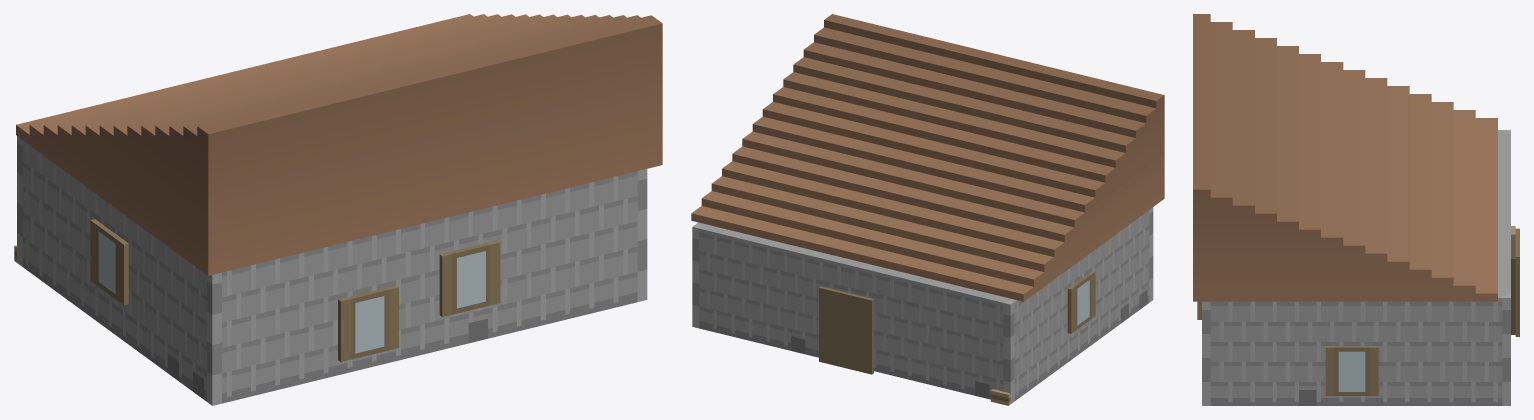
Rendered from molino_comunal_04.glb.
3 renders of one model, left to right at view 1: azimuth 30°, elevation 25°; view 2: azimuth 150°, elevation 25°; view 3: azimuth 270°, elevation 25°, orthographic. The views are drawn at different scales.
Visible parts, largest first — view 1: molino_comunal_04; view 2: molino_comunal_04; view 3: molino_comunal_04.
Boxes of the visible parts, left/top/right/bottom form: molino_comunal_04: left=14, top=14, right=662, bottom=405; molino_comunal_04: left=691, top=14, right=1164, bottom=405; molino_comunal_04: left=1193, top=14, right=1519, bottom=405.
Bounding box in the file's own units: 9.4 × 5.5 × 7.4.
